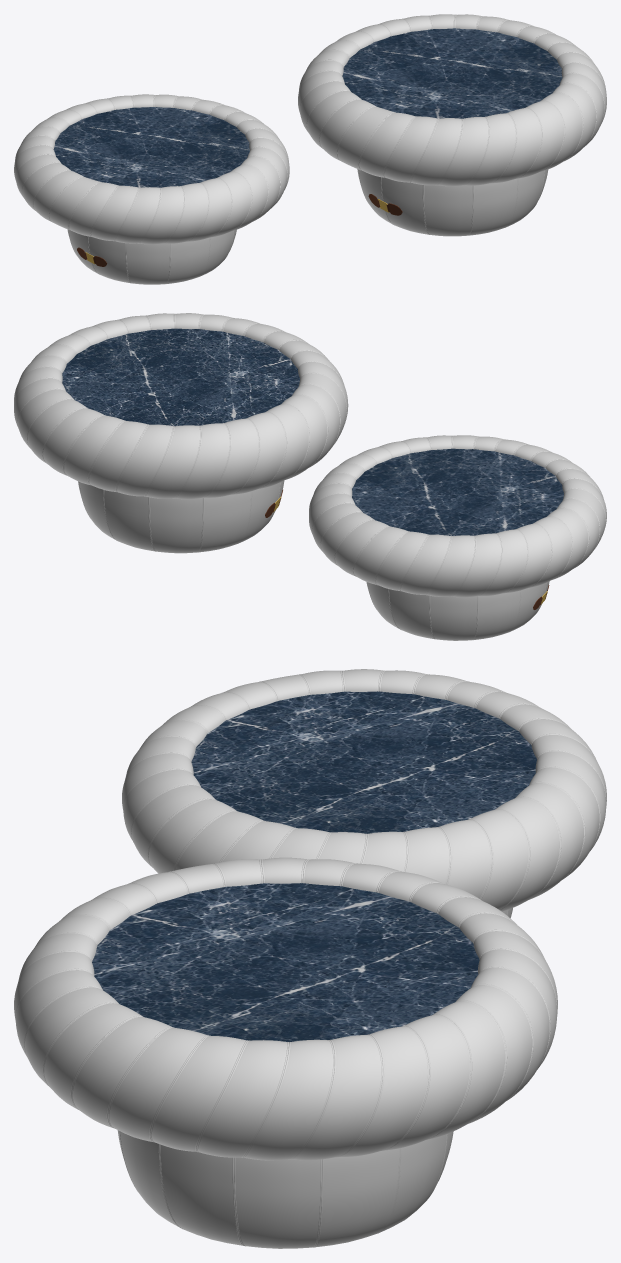
The model's file is SLN_BUTTON_MUSHROOM_Big_&_Small.glb.
3 views of the same model, one above another, from view 1: azimuth 30°, elevation 25°; view 2: azimuth 150°, elevation 25°; view 3: azimuth 270°, elevation 25° (orthographic). The views are drawn at different scales.
Visible parts, largest first — view 1: BUTTON MUSHROOM; view 2: BUTTON MUSHROOM; view 3: BUTTON MUSHROOM.
Part boxes in pixels (<box>): BUTTON MUSHROOM: <box>14,14,606,284</box>; BUTTON MUSHROOM: <box>14,313,606,640</box>; BUTTON MUSHROOM: <box>14,669,606,1248</box>.
Size of the model in its own units: 1.91 by 0.4704 by 1.05.
Materials: 4 (1 with a texture image).
